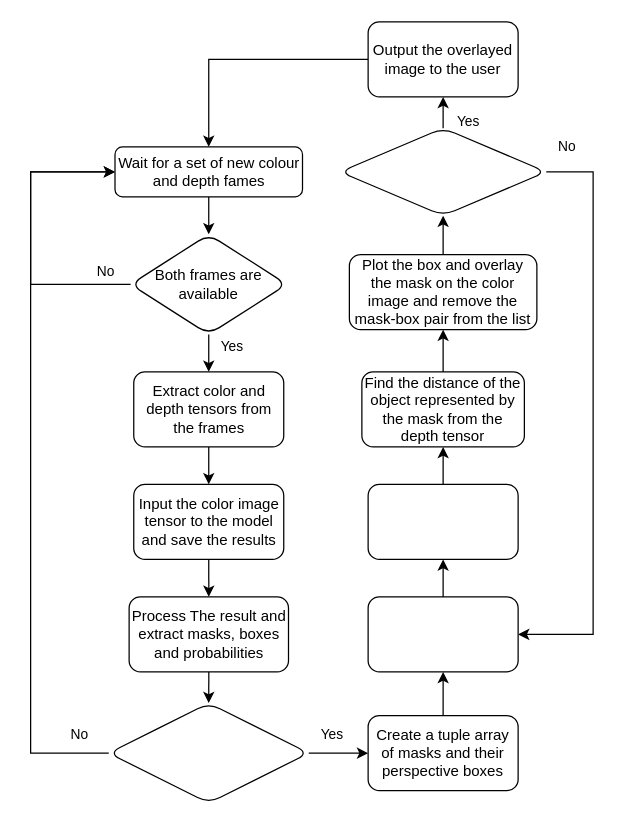
Some shapes in this 625 by 825 pixel diagram are drawn without their labels. The centre of each missing label's shape, as x and y in pixels:
"Calculate the centroid of the mask" belongs at (442,521).
"From the mask-box list choose the first one" belongs at (442,634).
"The mask-box list is empty" belongs at (442,171).
"The output contains predictions" belongs at (208,752).
